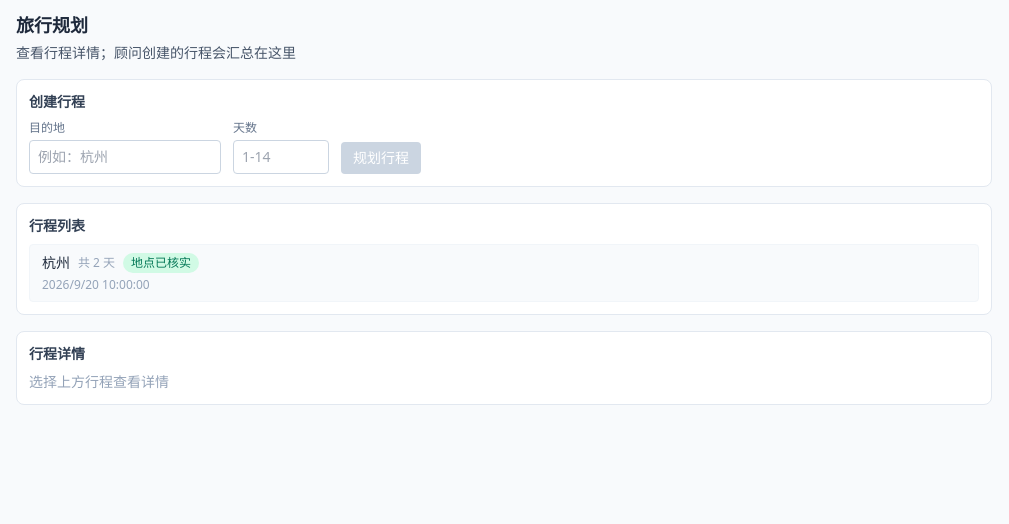
Test case: TripsPage › shows the persisted companion on the detail card
Click the text "杭州" at coordinates (56, 263), box [42, 253, 70, 273]
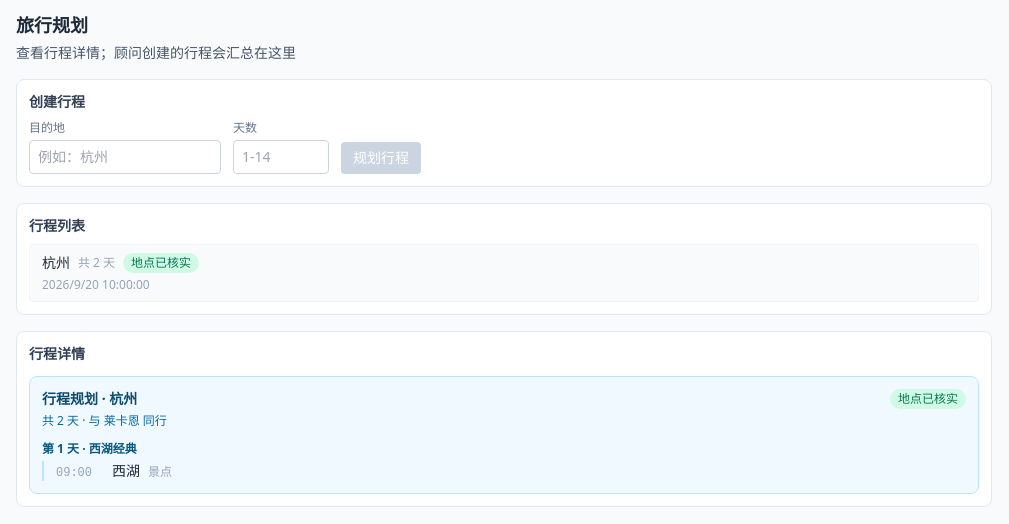
Now the text "共 2 天 · 与 莱卡恩 同行" is shown, box [42, 412, 167, 429]
